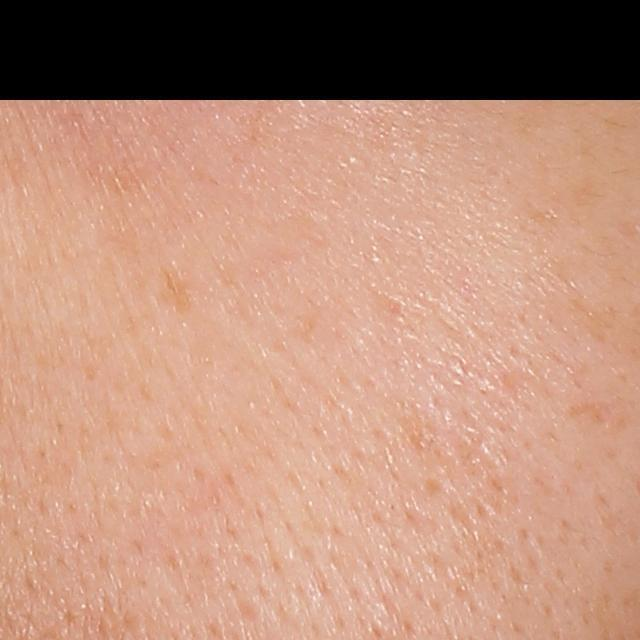melasma: (150, 261, 201, 326)
